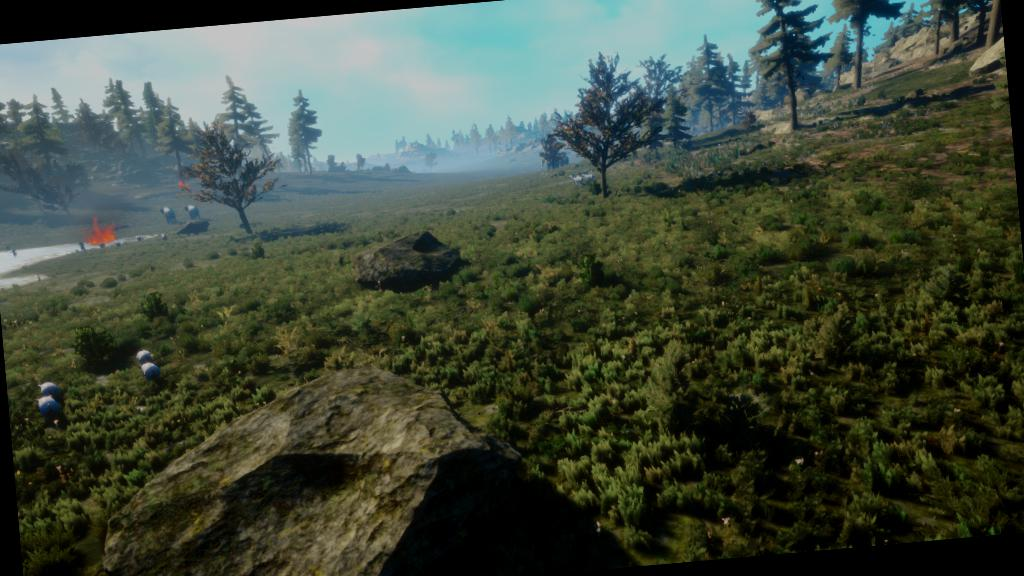Fire: (84, 220, 118, 245), (174, 177, 192, 194)
elephant: (158, 203, 178, 226), (184, 203, 202, 220)
human: (10, 246, 20, 258)
pig: (34, 393, 64, 420), (34, 378, 65, 402), (139, 360, 164, 382), (135, 347, 157, 364)
zebra: (582, 171, 596, 182), (571, 172, 583, 184)
